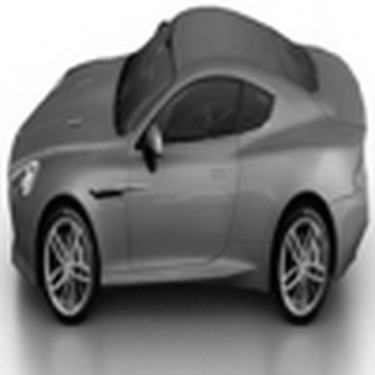car: (3, 1, 370, 334)
